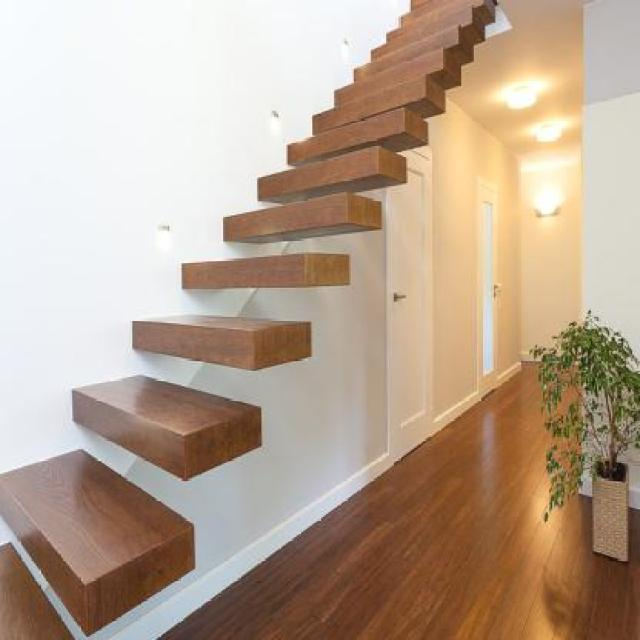stair: (2, 0, 523, 634)
